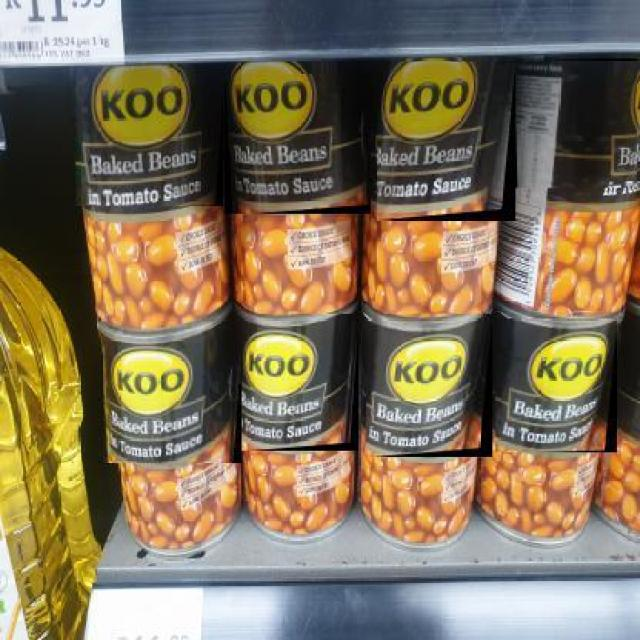Beans: (377, 62, 517, 222), (225, 74, 372, 215), (76, 68, 224, 208), (103, 330, 243, 465), (366, 314, 494, 458), (241, 313, 361, 453), (496, 319, 618, 455), (514, 59, 638, 190)
